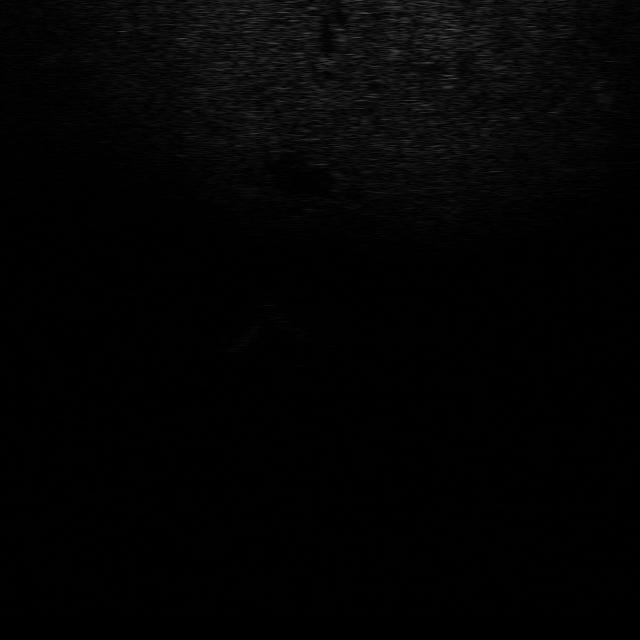human body: (226, 300, 280, 354)
